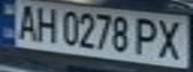0: (57, 8, 81, 47)
2: (75, 9, 96, 50)
7: (93, 10, 115, 52)
8: (109, 12, 133, 54)
A: (12, 1, 42, 40)
H: (30, 3, 60, 43)
P: (130, 15, 163, 57)
X: (151, 16, 190, 61)
